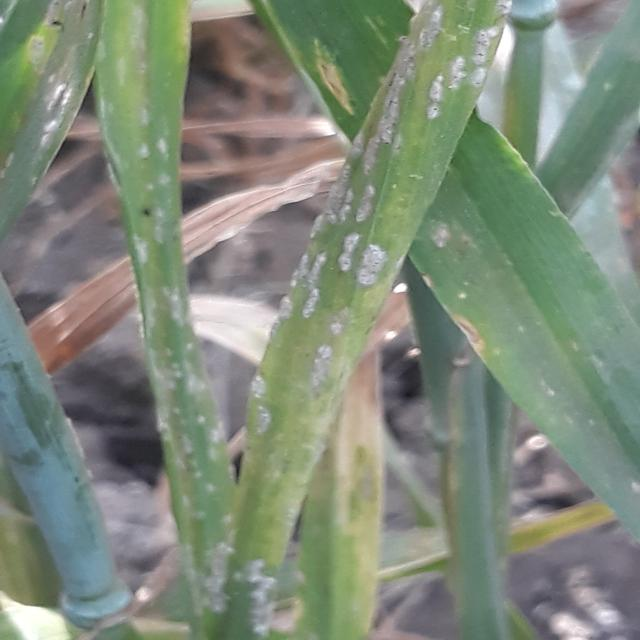powder_mildew: (235, 9, 510, 640), (104, 3, 234, 640), (510, 226, 640, 542), (0, 1, 105, 240), (232, 6, 412, 141)
